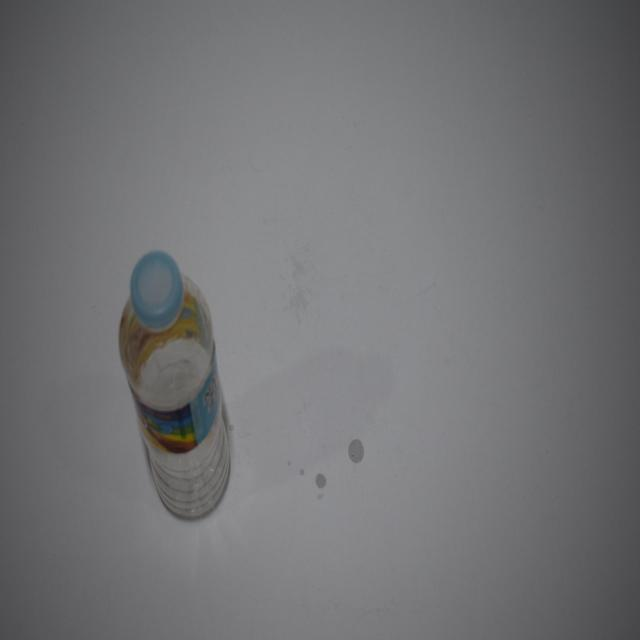bottle: (115, 248, 235, 525)
